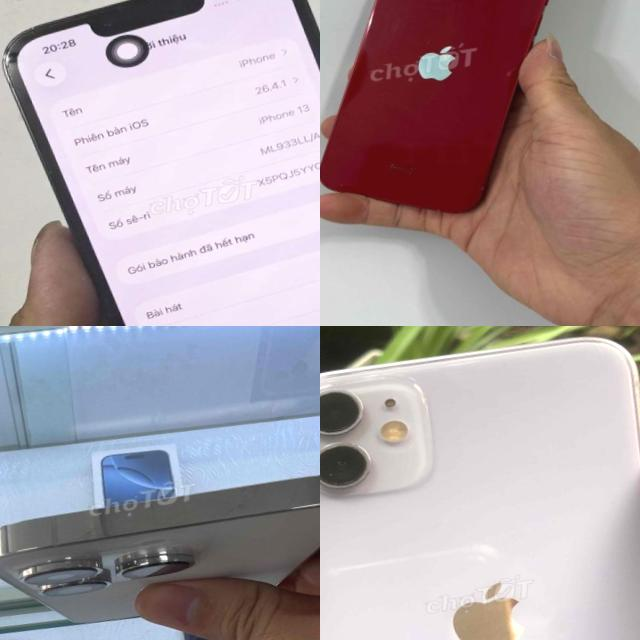gen_11: (320, 326, 640, 640)
gen_12_13: (0, 0, 320, 326), (320, 0, 605, 234)
gen_14: (0, 446, 320, 640)
